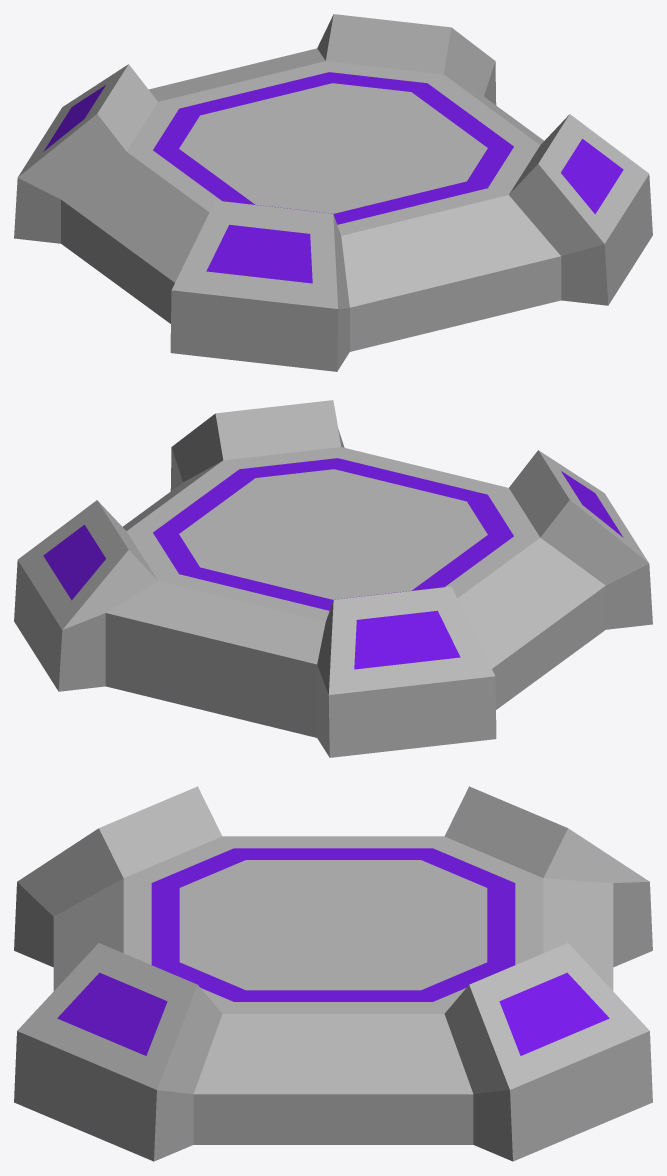
File: Golem Tower lev 2.fbx
The picture shows the model from 3 angles, top to bottom: view 1: azimuth 30°, elevation 25°; view 2: azimuth 150°, elevation 25°; view 3: azimuth 270°, elevation 25°; orthographic projection. The views are drawn at different scales.
Parts seen in each view (by area): view 1: Torre Wizzard.025; view 2: Torre Wizzard.025; view 3: Torre Wizzard.025.
Part boxes in pixels (left/top/right/bottom): Torre Wizzard.025: left=14, top=14, right=652, bottom=371; Torre Wizzard.025: left=14, top=400, right=652, bottom=757; Torre Wizzard.025: left=14, top=786, right=652, bottom=1161.
Size of the model in its own units: 17.12 by 4.17 by 17.12.
